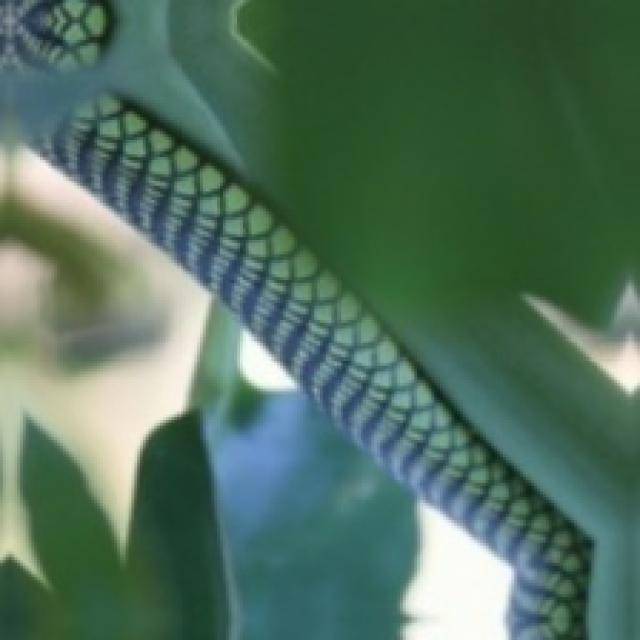paradise tree snake: (39, 95, 589, 640), (0, 0, 110, 69)
